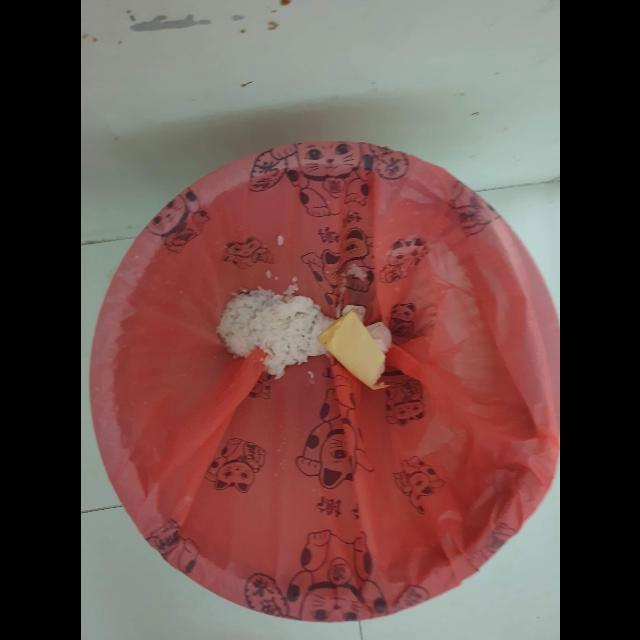left_over_food: (217, 286, 326, 380)
paper: (317, 308, 386, 390)
